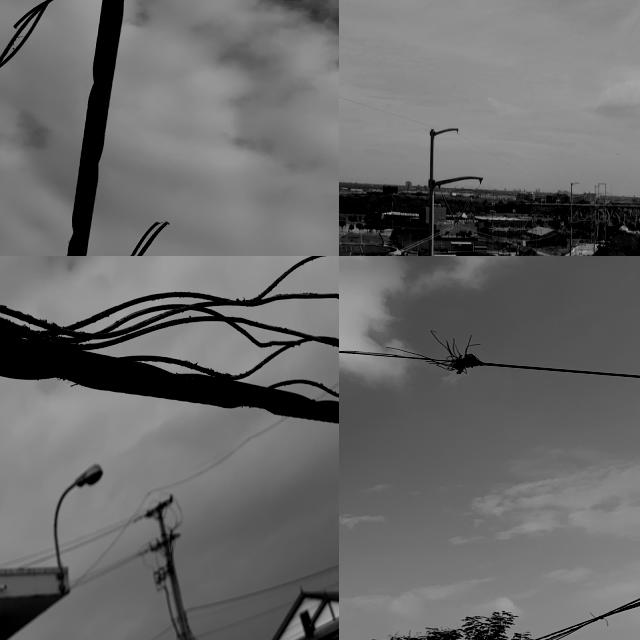正常绝缘子: (452, 193, 476, 231), (440, 188, 459, 228)
电缆破损: (32, 256, 339, 437), (0, 0, 188, 256), (339, 316, 519, 385)
